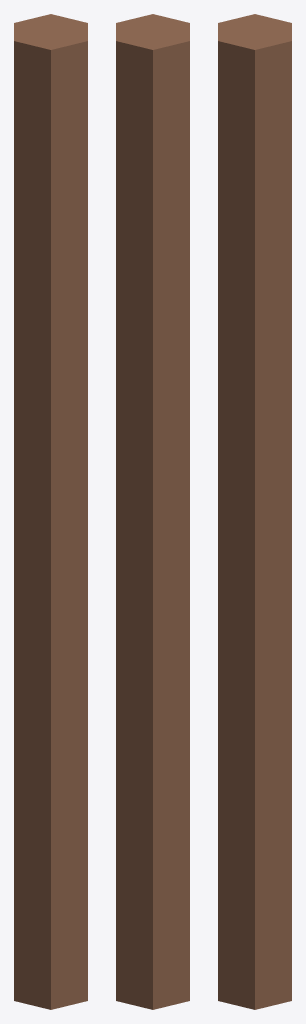
The model's file is PROP_Lamp_3.fbx.
3 renders of one model, left to right at view 1: azimuth 90°, elevation 25°; view 2: azimuth 150°, elevation 25°; view 3: azimuth 330°, elevation 25°, orthographic.
Visible parts, largest first — view 1: GEO_Stand_Bottom; view 2: GEO_Stand_Bottom; view 3: GEO_Stand_Bottom.
Boxes of the visible parts, x1=… form: GEO_Stand_Bottom: x1=14, y1=14, x2=87, y2=1009; GEO_Stand_Bottom: x1=116, y1=14, x2=189, y2=1009; GEO_Stand_Bottom: x1=218, y1=14, x2=291, y2=1009.
Bounding box in the file's own units: 7.18 × 89.18 × 6.22.
Materials: 1 (1 with a texture image).
